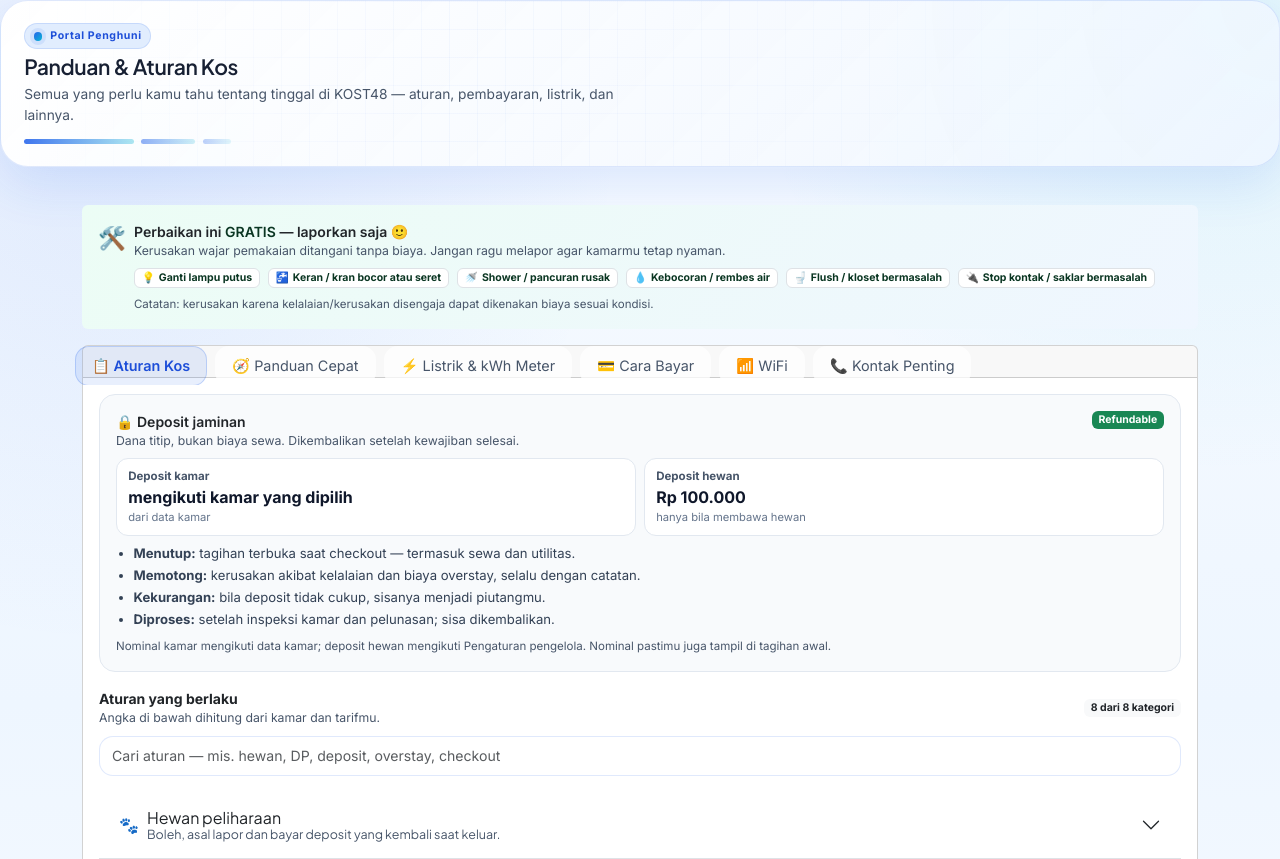
Test: Y-P3 — MyManualPage (tenant portal integration) › tab Panduan Cepat membuka wizard 4 pertanyaan
The image size is (1280, 859).
Step 1. Click the button "🧭 Panduan Cepat" → (295, 366), box [215,346,376,386]
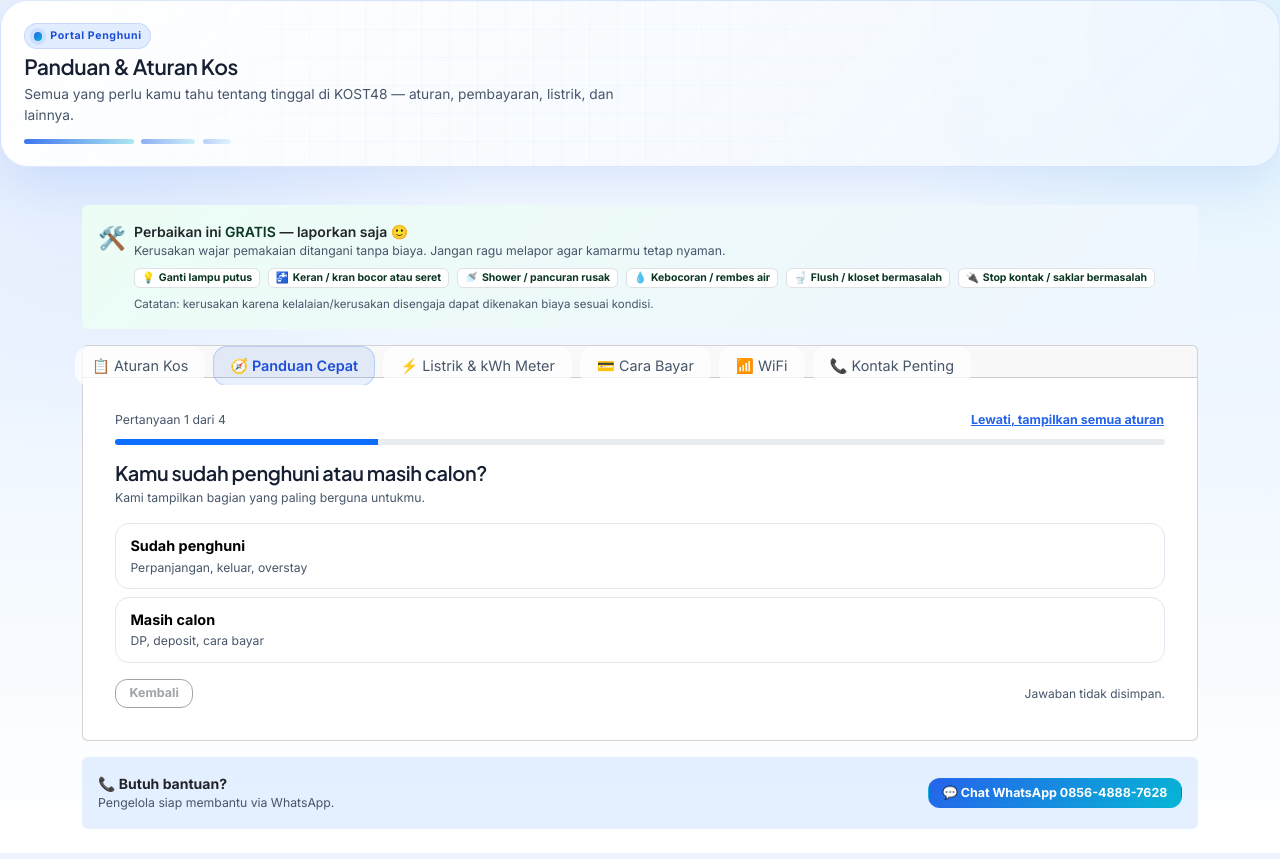
Expected: the heading "Kamu sudah penghuni atau masih calon?" is shown, [115,460,487,485]
Expected: the button "Lewati, tampilkan semua aturan" is shown, [970,410,1165,431]
